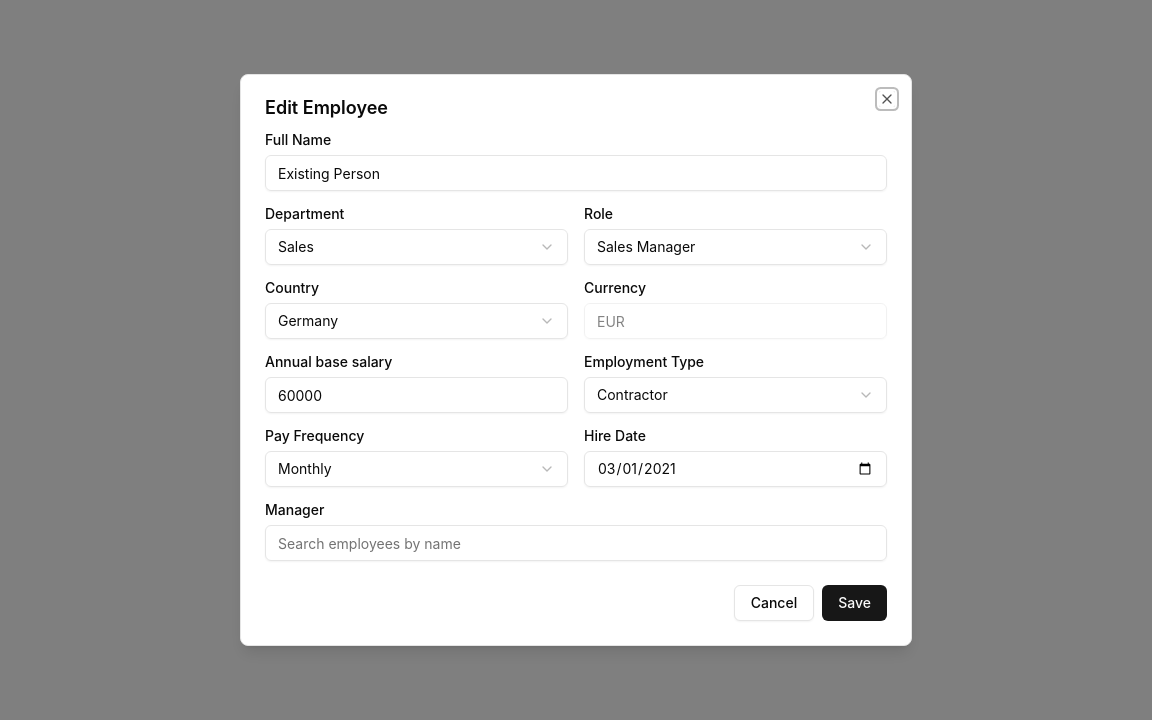
EmployeeFormModal › shows a generic save error and keeps the modal open when a non-422 save error occurs
Expected: the field showing "Existing Person" is shown, [265,155,887,191]
Click the button "Save": (855, 603) [822,585,887,621]
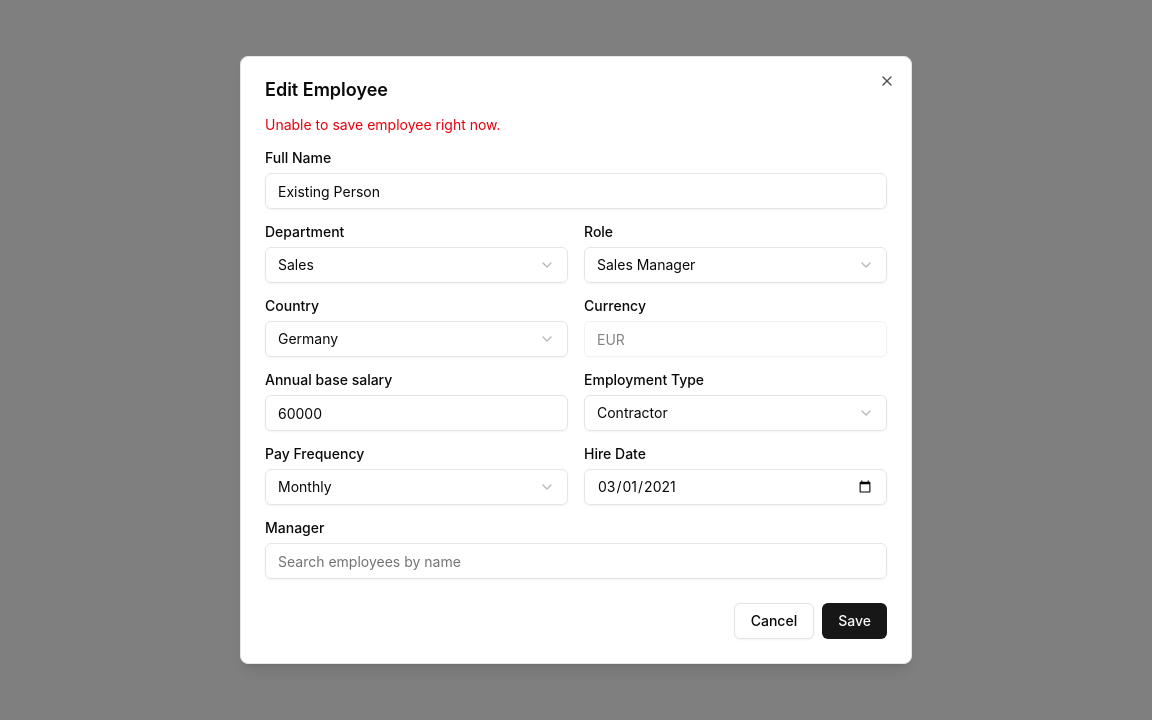
Now the text "Unable to save employee right now." is shown, box [265,116,500,133]
